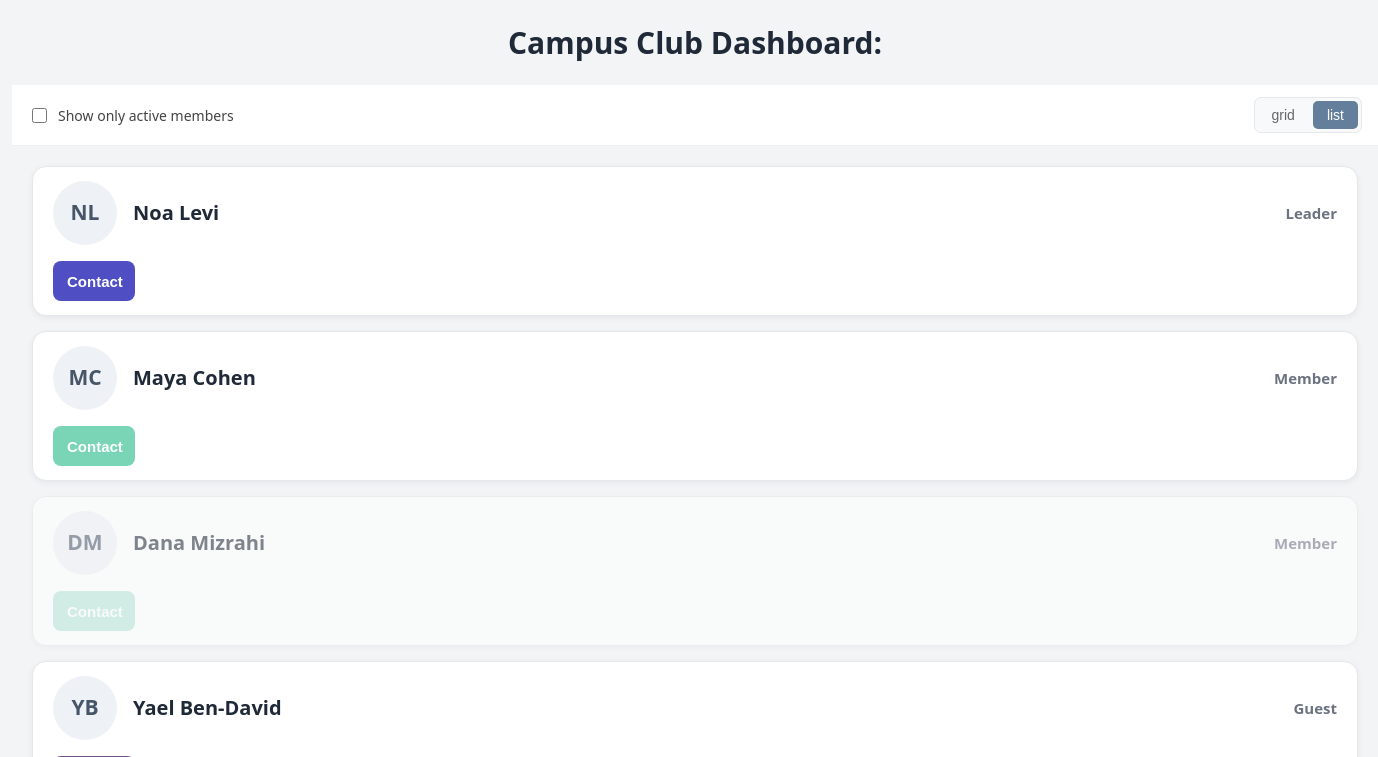
Test: App (showOnlyActive state): checking the toggle shows only active members, unchecking shows all again
Later steps or results of the test are not shown.
Click the checkbox labelled "Show only active members".
click(40, 115)  # box [32, 108, 47, 123]
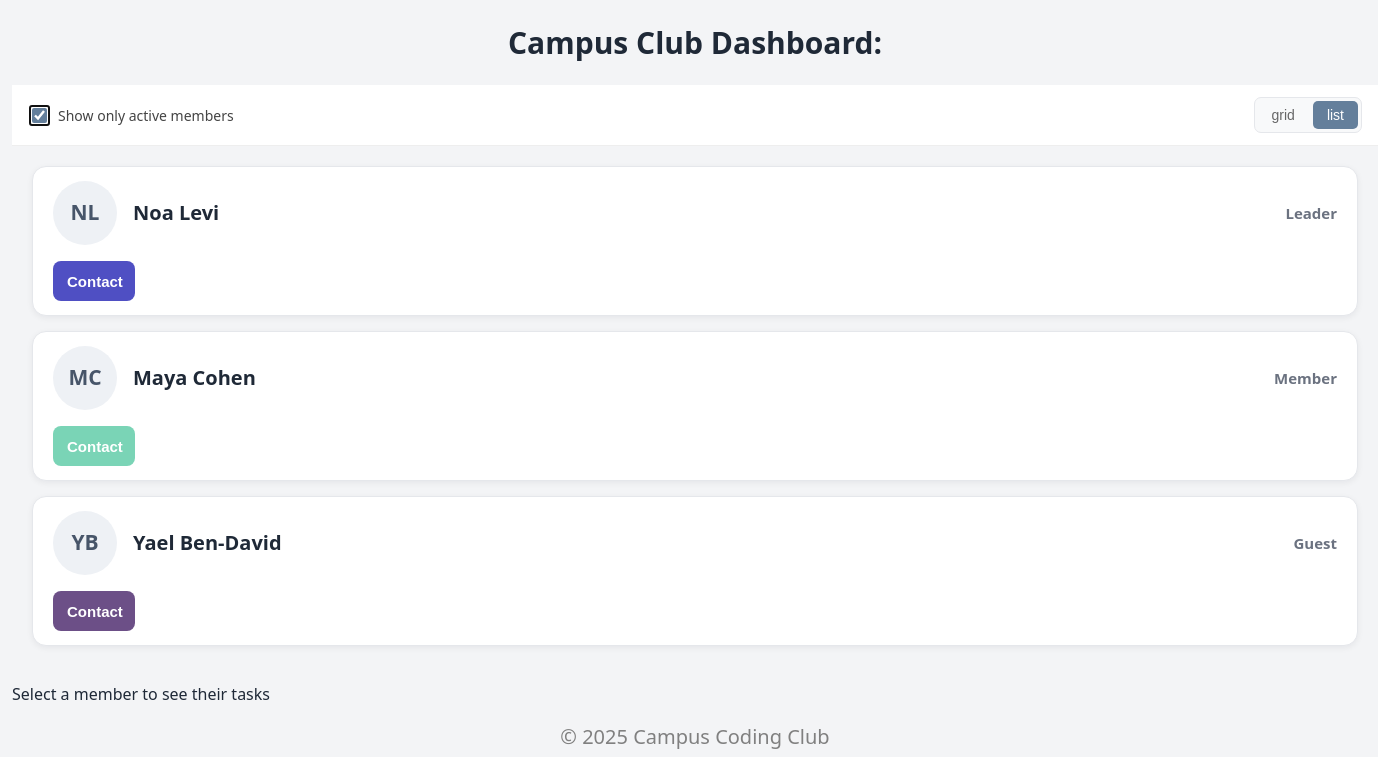
Expected: the checkbox labelled "Show only active members" is checked, [32, 108, 47, 123]
